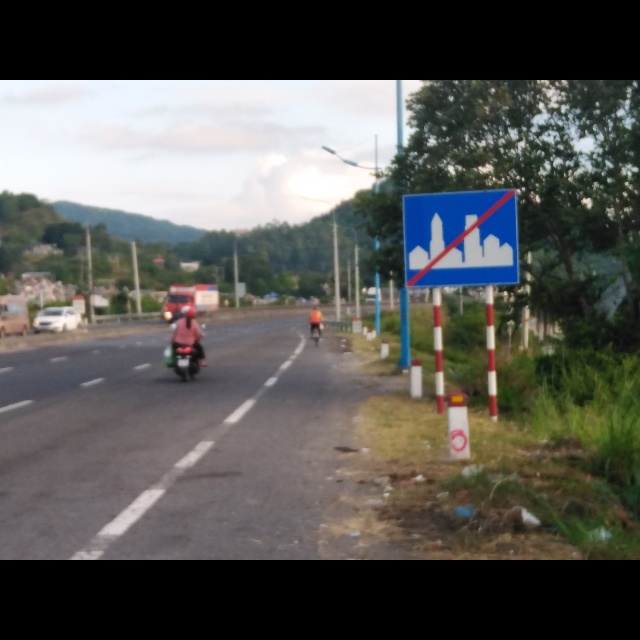Hết khu đông dân cư: (400, 187, 519, 290)
